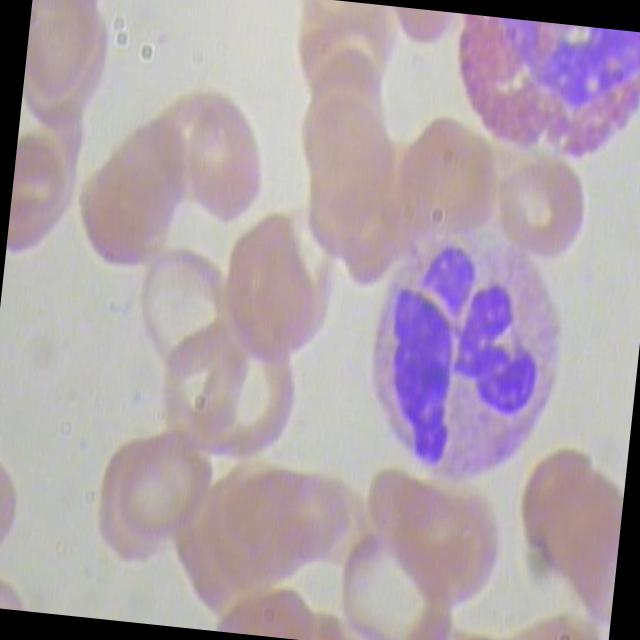RBC: (204, 198, 336, 380), (122, 240, 244, 388), (384, 111, 509, 253), (324, 515, 461, 640), (167, 94, 279, 235), (110, 431, 224, 558), (486, 154, 601, 274)
WBC: (342, 224, 580, 502), (436, 14, 640, 166)
